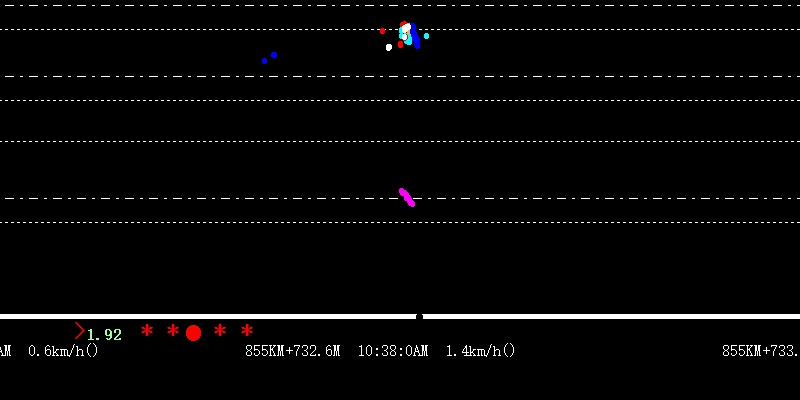circle: (182, 320, 202, 343)
face_2: (398, 20, 419, 53)
star: (238, 320, 256, 341), (138, 320, 156, 340), (213, 322, 230, 340), (165, 322, 182, 339)
